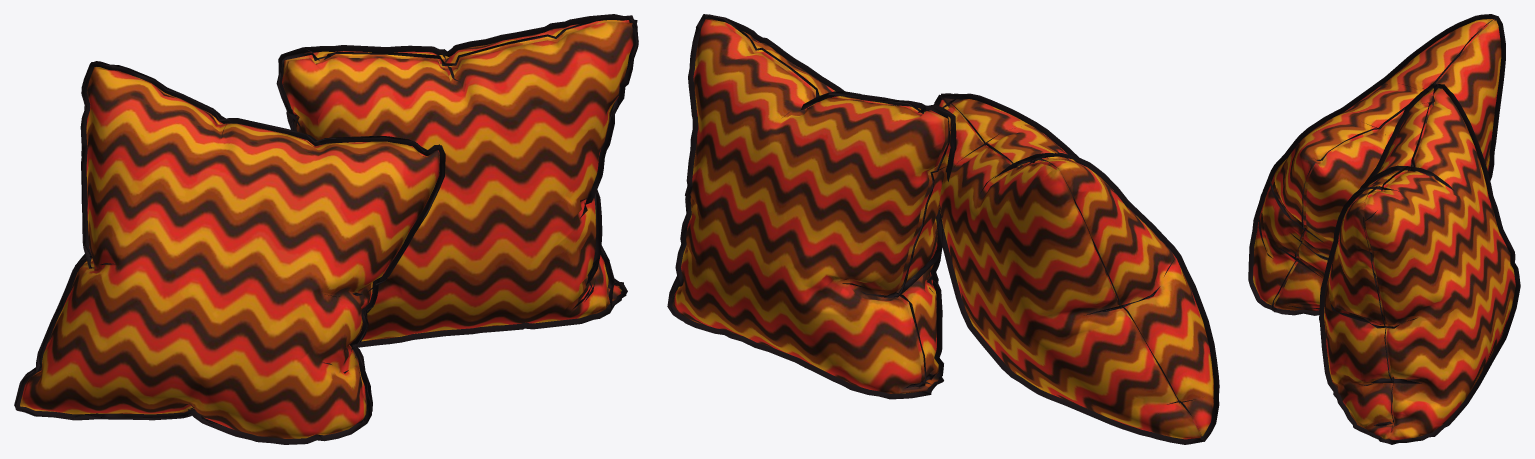
The model's file is SM_Int_Pillows.fbx.
3 views of the same model, side by side, from view 1: azimuth 30°, elevation 25°; view 2: azimuth 150°, elevation 25°; view 3: azimuth 270°, elevation 25° (orthographic). The views are drawn at different scales.
Visible parts, largest first — view 1: SM_Int_Pillows; view 2: SM_Int_Pillows; view 3: SM_Int_Pillows.
Boxes of the visible parts, x1,y1,x2,y2 form: SM_Int_Pillows: [14, 14, 638, 444]; SM_Int_Pillows: [667, 14, 1219, 444]; SM_Int_Pillows: [1248, 14, 1520, 444].
Size of the model in its own units: 0.9146 by 0.4469 by 0.4484.
